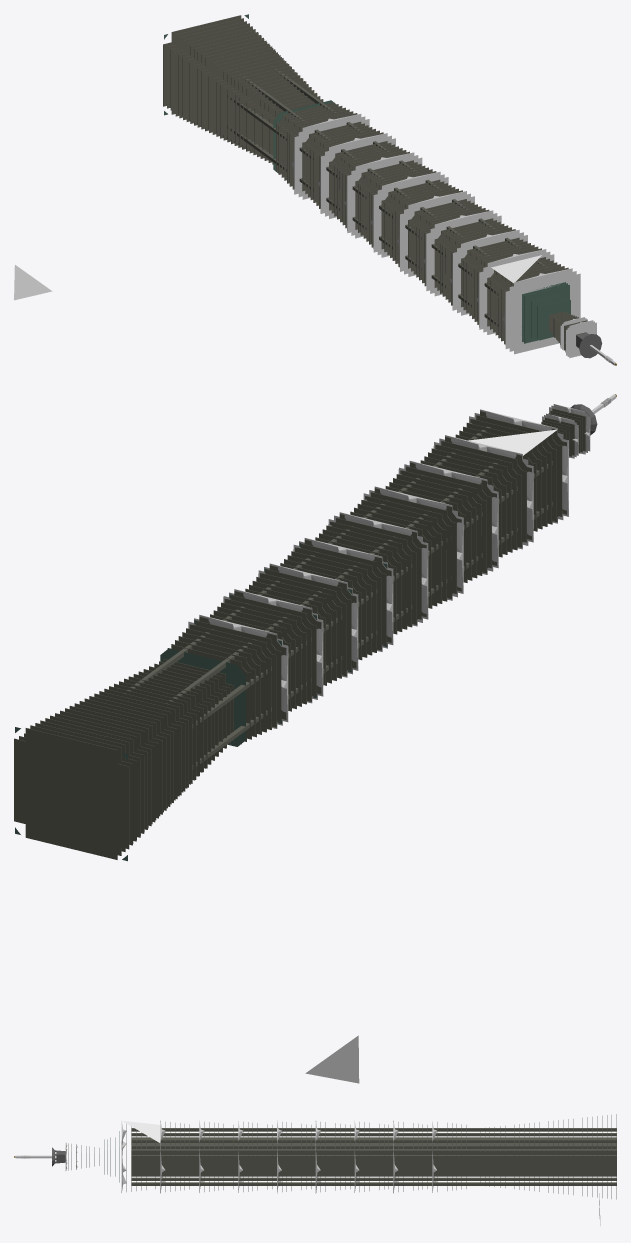
Rendered from Taipei - klouček.obj.
The picture shows the model from 3 angles, top to bottom: view 1: azimuth 30°, elevation 25°; view 2: azimuth 150°, elevation 25°; view 3: azimuth 270°, elevation 25°; orthographic projection. The views are drawn at different scales.
Visible parts, largest first — view 1: Object.1; view 2: Object.1; view 3: Object.1.
Boxes of the visible parts, box(x1,y1,x2,y2) form: Object.1: box(14, 14, 616, 365); Object.1: box(14, 394, 616, 1083); Object.1: box(14, 1114, 616, 1225).
Bounding box in the file's own units: 8530 × 7221 × 24445.
